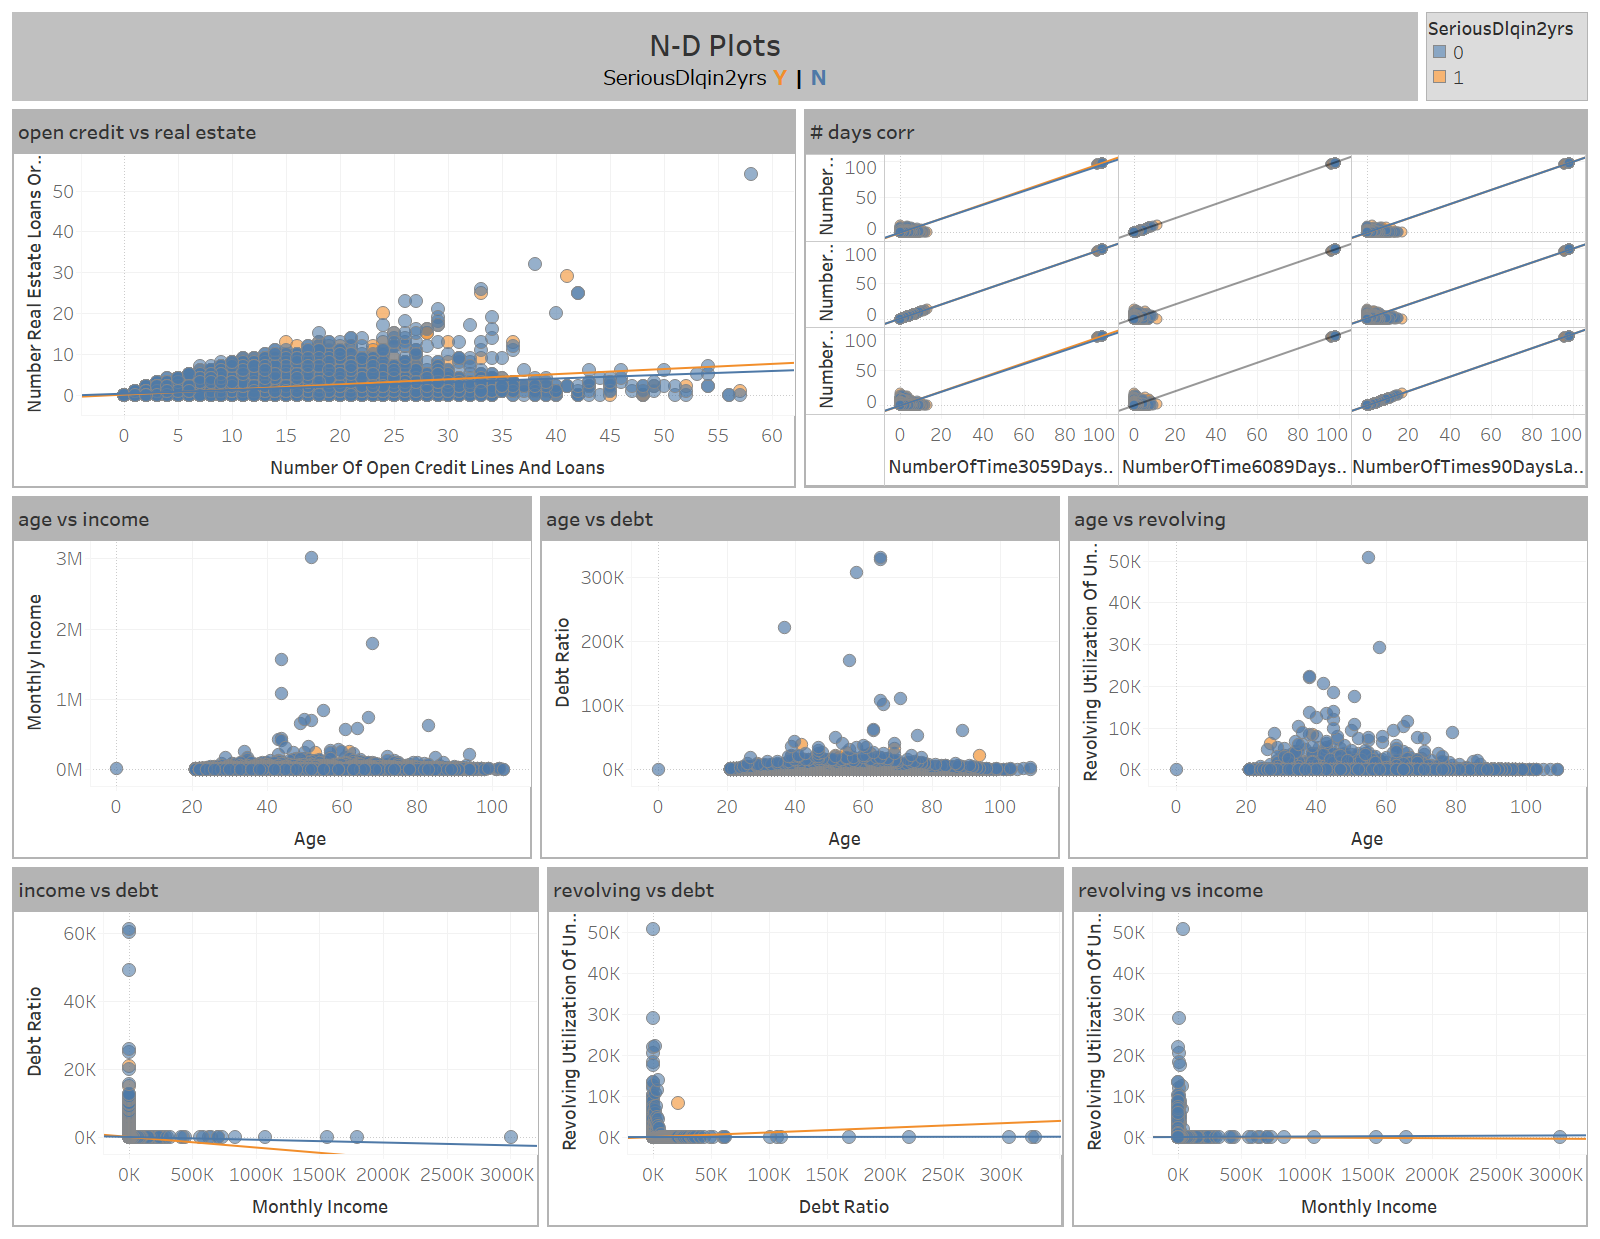

What the dashboard file says about the page in this screenshot:
{"tool":"tableau","page":{"name":"ND plots","canvas":[1000,1000],"units":"permille","ordinal":2},"visuals":[{"type":"worksheet","box":[0,0,1000,1000]},{"type":"worksheet","param":"horz","box":[5,6.5,990,390.6]},{"type":"worksheet","box":[5,6.5,990,390.6]},{"type":"worksheet","param":"horz","box":[5,6.5,990,78.6]},{"type":"worksheet","box":[5,6.5,990,78.6]},{"type":"worksheet","param":"horz","box":[5,6.5,990,78.6]},{"type":"worksheet","box":[5,6.5,883.8,78.6]},{"type":"worksheet","title":"age vs revolving","mark":"Circle","rows":["RevolvingUtilizationOfUnsecuredLines"],"cols":["age"],"param":"[federated.1c39f8p0t8x8si178zl3b0ajc2rl].[none:SeriousDlqin2yrs:ok]","box":[888.8,6.5,106.2,78.6]},{"type":"worksheet","title":"open credit vs real estate","mark":"Circle","rows":["NumberRealEstateLoansOrLines"],"cols":["NumberOfOpenCreditLinesAndLoans"],"box":[5,85,495,312.1]},{"type":"worksheet","title":"# days corr","mark":"Circle","rows":["NumberOfTime6089DaysPastDueNotWorse","NumberOfTime3059DaysPastDueNotWorse","NumberOfTimes90DaysLate"],"cols":["NumberOfTime3059DaysPastDueNotWorse","NumberOfTime6089DaysPastDueNotWorse","NumberOfTimes90DaysLate"],"box":[500,85,495,312.1]},{"type":"worksheet","param":"horz","box":[5,397.1,990,299.4]},{"type":"worksheet","title":"age vs income","mark":"Circle","rows":["MonthlyIncome"],"cols":["age"],"box":[5,397.1,330,299.4]},{"type":"worksheet","title":"age vs debt","mark":"Circle","rows":["DebtRatio"],"cols":["age"],"box":[335,397.1,330,299.4]},{"type":"worksheet","title":"age vs revolving","mark":"Circle","rows":["RevolvingUtilizationOfUnsecuredLines"],"cols":["age"],"box":[665,397.1,330,299.4]},{"type":"worksheet","box":[5,696.5,990,297]},{"type":"worksheet","box":[5,696.5,990,297]},{"type":"worksheet","box":[5,696.5,990,297]},{"type":"worksheet","param":"horz","box":[5,696.5,990,297]},{"type":"worksheet","title":"income vs debt","mark":"Circle","rows":["DebtRatio"],"cols":["MonthlyIncome"],"box":[5,696.5,334.6,297]},{"type":"worksheet","title":"revolving vs debt","mark":"Circle","rows":["RevolvingUtilizationOfUnsecuredLines"],"cols":["DebtRatio"],"box":[339.6,696.5,327.7,297]},{"type":"worksheet","title":"revolving vs income","mark":"Circle","rows":["RevolvingUtilizationOfUnsecuredLines"],"cols":["MonthlyIncome"],"box":[667.3,696.5,327.7,297]}]}

Visuals, with their boxes on the dashboard's canvas, which has no fixed pixel size, in thousandths of its width and height (x1, y1, x2, y2). These are canvas units, not pixel positions in the 1600x1239 screenshot, which may show the page scaled, cropped or inside an application window:
worksheet: 0/0/1000/1000
worksheet: 5/6/995/397
worksheet: 5/6/995/397
worksheet: 5/6/995/85
worksheet: 5/6/995/85
worksheet: 5/6/995/85
worksheet: 5/6/889/85
"age vs revolving" worksheet (Circle marks): 889/6/995/85
"open credit vs real estate" worksheet (Circle marks): 5/85/500/397
"# days corr" worksheet (Circle marks): 500/85/995/397
worksheet: 5/397/995/696
"age vs income" worksheet (Circle marks): 5/397/335/696
"age vs debt" worksheet (Circle marks): 335/397/665/696
"age vs revolving" worksheet (Circle marks): 665/397/995/696
worksheet: 5/696/995/994
worksheet: 5/696/995/994
worksheet: 5/696/995/994
worksheet: 5/696/995/994
"income vs debt" worksheet (Circle marks): 5/696/340/994
"revolving vs debt" worksheet (Circle marks): 340/696/667/994
"revolving vs income" worksheet (Circle marks): 667/696/995/994
